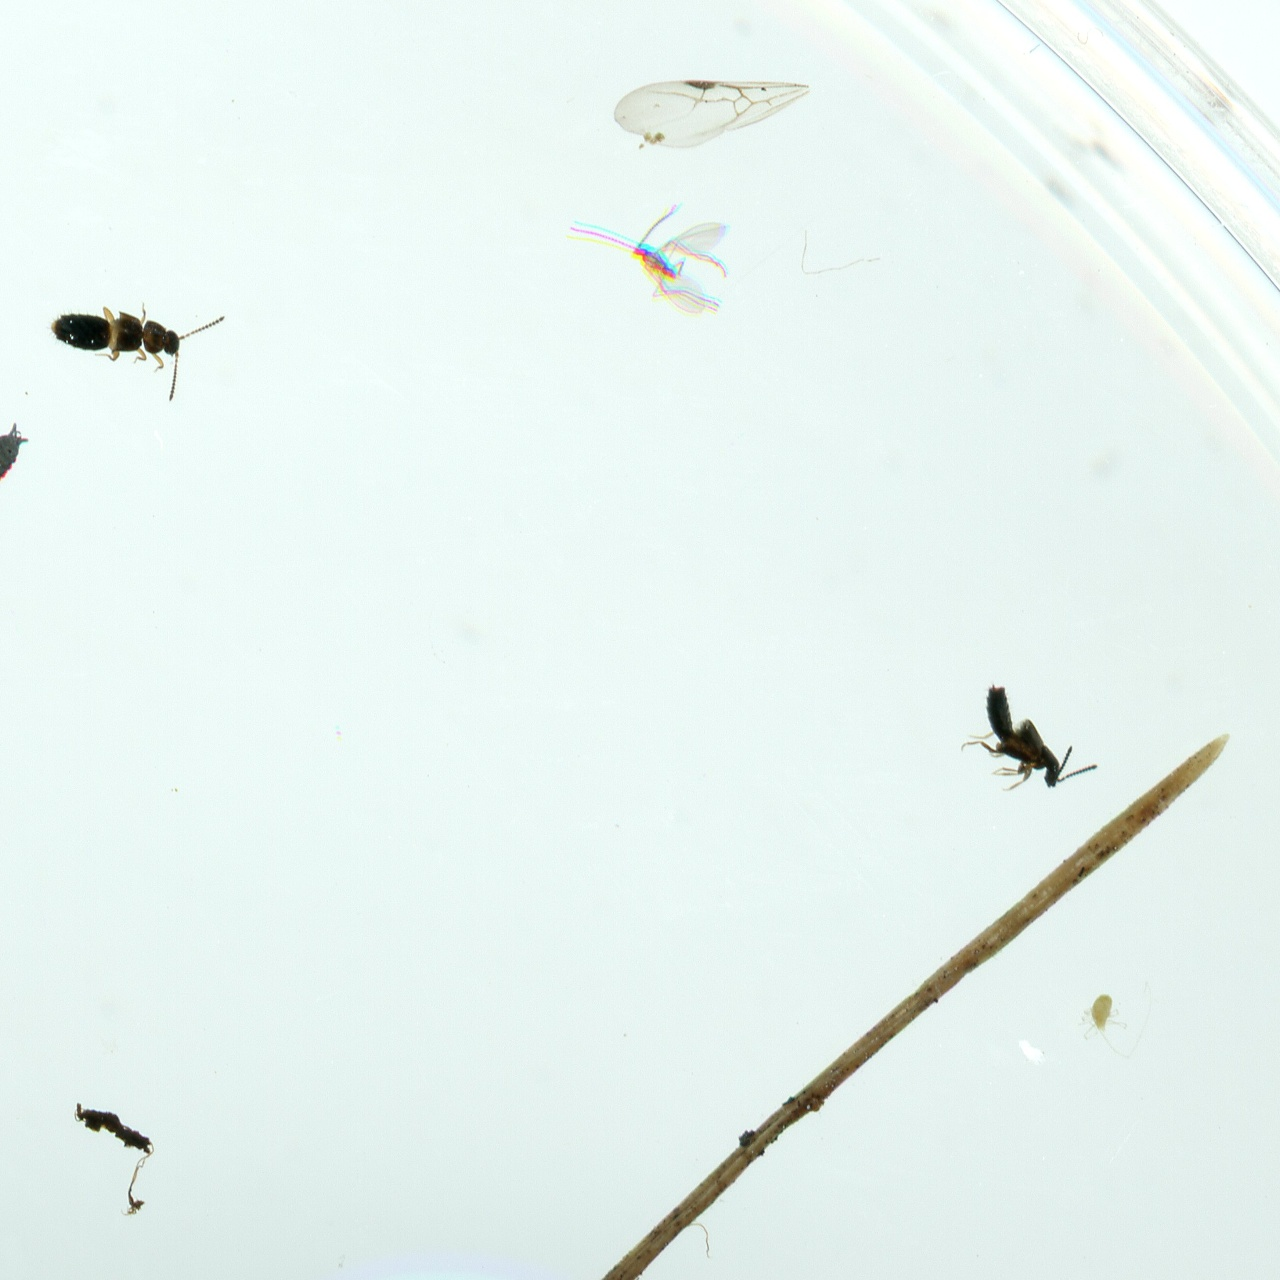arthropod: (567, 205, 728, 314), (53, 306, 226, 404), (958, 681, 1098, 792), (1076, 980, 1156, 1058), (0, 421, 32, 497)
